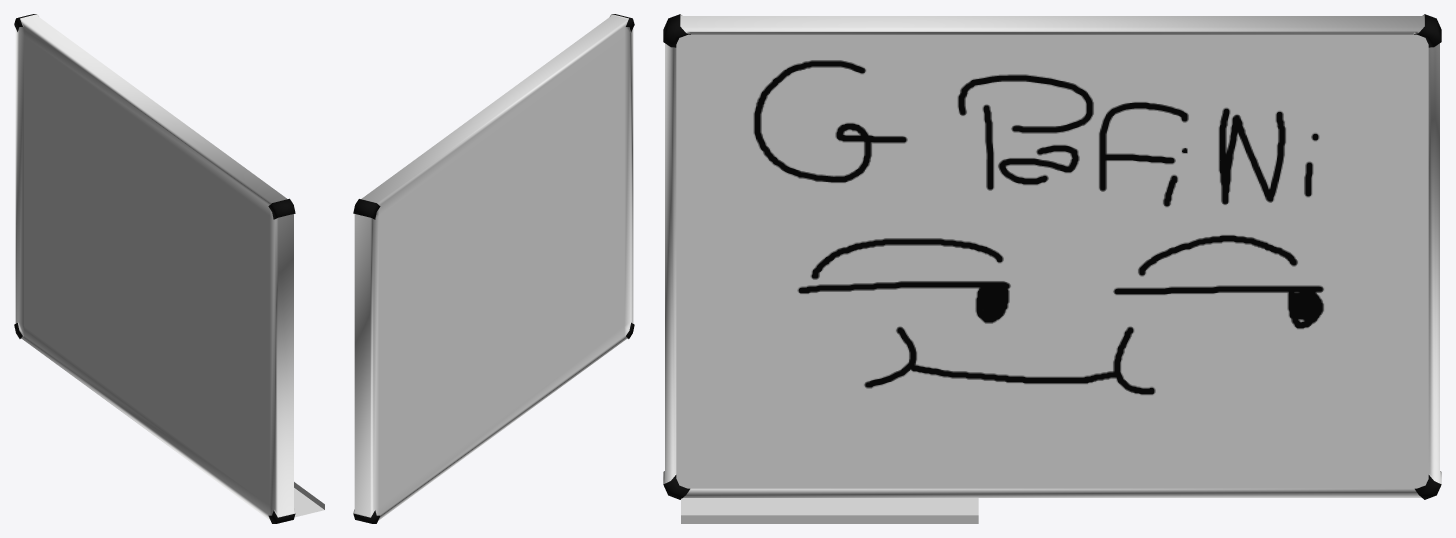
File: Board.fbx
The picture shows the model from 3 angles, left to right: view 1: azimuth 30°, elevation 25°; view 2: azimuth 150°, elevation 25°; view 3: azimuth 270°, elevation 25°; orthographic projection. The views are drawn at different scales.
Parts seen in each view (by area): view 1: Board; view 2: Board; view 3: Board.
Boxes of the visible parts, left/top/right/bottom form: Board: left=14, top=14, right=324, bottom=523; Board: left=353, top=14, right=634, bottom=523; Board: left=663, top=14, right=1441, bottom=523.
Size of the model in its own units: 0.3812 by 2.2 by 3.28.
